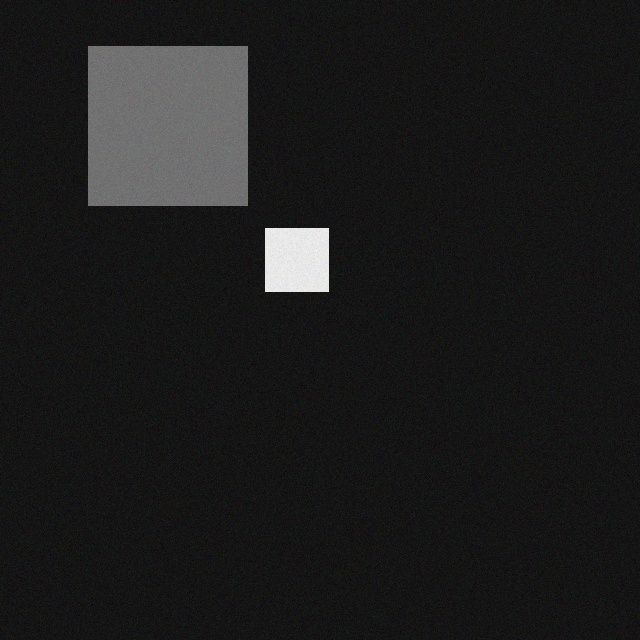square: (96, 54, 255, 213), (273, 236, 336, 299)
